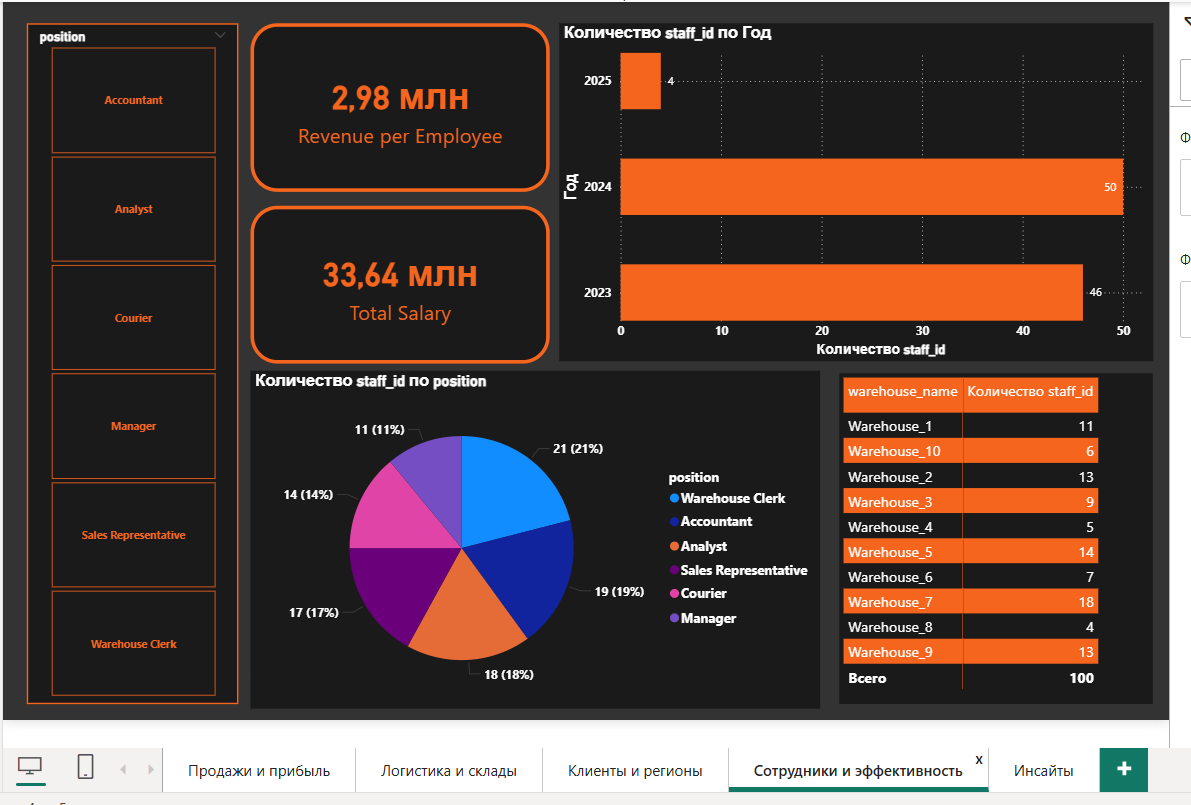

The dashboard page shown, as its layout file describes it:
{"tool":"powerbi","page":{"name":"Сотрудники и эффективность","canvas":[1300,800],"ordinal":3},"visuals":[{"type":"pivotTable","fields":{"Rows":["Student public_wb.warehouse_name"],"Values":["CountNonNull(Student public_staff.staff_id)"]},"box":[932.6,414,349.7,369.2],"z":0},{"type":"card","fields":{"Values":["Student nomenclature_reference.Total Salary"]},"box":[276.5,227.2,333.3,176.4],"z":1000},{"type":"barChart","fields":{"Category":["Student public_staff.hire_date.Изменение.Иерархия дат.Год","Student public_staff.hire_date.Изменение.Иерархия дат.Квартал","Student public_staff.hire_date.Изменение.Иерархия дат.Месяц","Student public_staff.hire_date.Изменение.Иерархия дат.День"],"Y":["CountNonNull(Student public_staff.staff_id)"]},"box":[620.3,23.9,662.1,376.6],"z":2000},{"type":"card","fields":{"Values":["Student nomenclature_reference.Revenue per Employee"]},"box":[276.5,23.9,333.3,188.3],"z":3000},{"type":"slicer","fields":{"Values":["Student public_staff.position"]},"box":[26.9,23.9,236.1,759.3],"z":4000},{"type":"pieChart","fields":{"Y":["CountNonNull(Student public_staff.staff_id)"],"Category":["Student public_staff.position"]},"box":[276.5,411,635.2,376.6],"z":5000}]}

Visuals, with their boxes on the page's 1300x800 design canvas (x1, y1, x2, y2). These are canvas units, not pixel positions in the 1191x805 screenshot, which may show the page scaled, cropped or inside an application window:
pivotTable - Student public_wb.warehouse_name x CountNonNull(Student public_staff.staff_id): 933:414:1282:783
card - Student nomenclature_reference.Total Salary: 276:227:610:404
barChart - Student public_staff.hire_date.Изменение.Иерархия дат.Год x Student public_staff.hire_date.Изменение.Иерархия дат.Квартал: 620:24:1282:400
card - Student nomenclature_reference.Revenue per Employee: 276:24:610:212
slicer - Student public_staff.position: 27:24:263:783
pieChart - CountNonNull(Student public_staff.staff_id) x Student public_staff.position: 276:411:912:788
